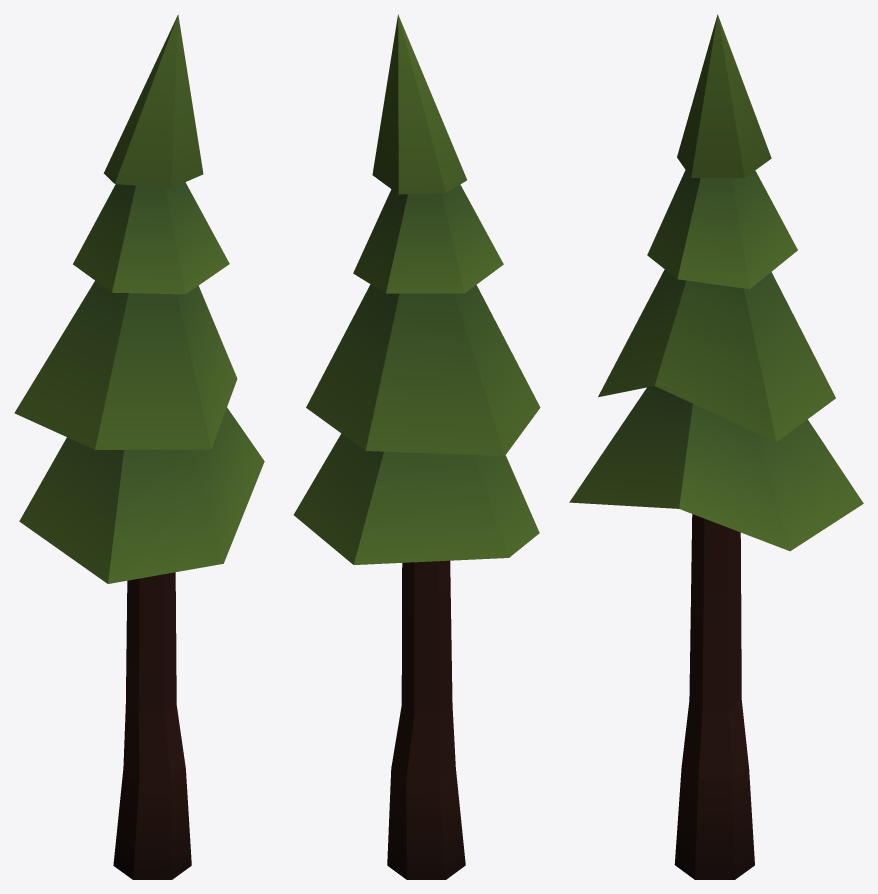
The model's file is PropsTree_v3.fbx.
3 renders of one model, left to right at view 1: azimuth 30°, elevation 25°; view 2: azimuth 150°, elevation 25°; view 3: azimuth 270°, elevation 25°, orthographic. The views are drawn at different scales.
Visible parts, largest first — view 1: Tree_v3; view 2: Tree_v3; view 3: Tree_v3.
Part boxes in pixels (x1,y1,x2,y2): Tree_v3: (14, 14, 264, 879); Tree_v3: (293, 14, 540, 879); Tree_v3: (569, 14, 863, 879).
Size of the model in its own units: 2.35 by 9.29 by 2.87.
